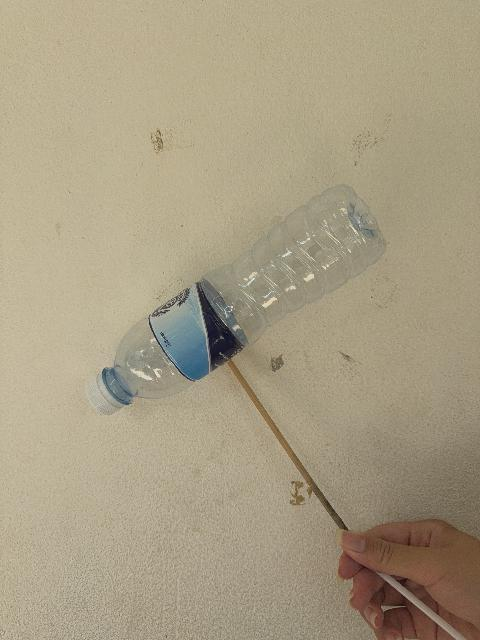bottle: (86, 186, 386, 414)
